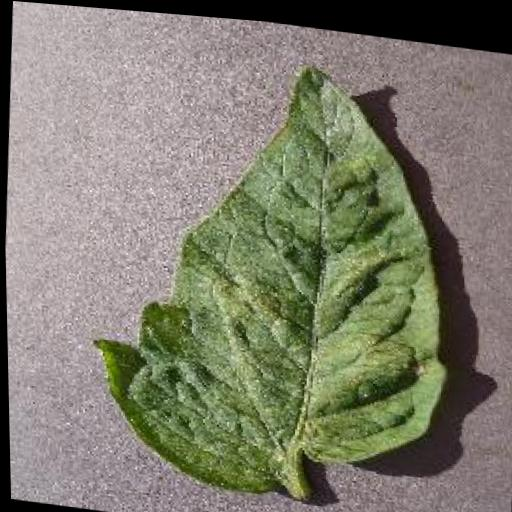Spider Mites: (77, 31, 464, 511)
